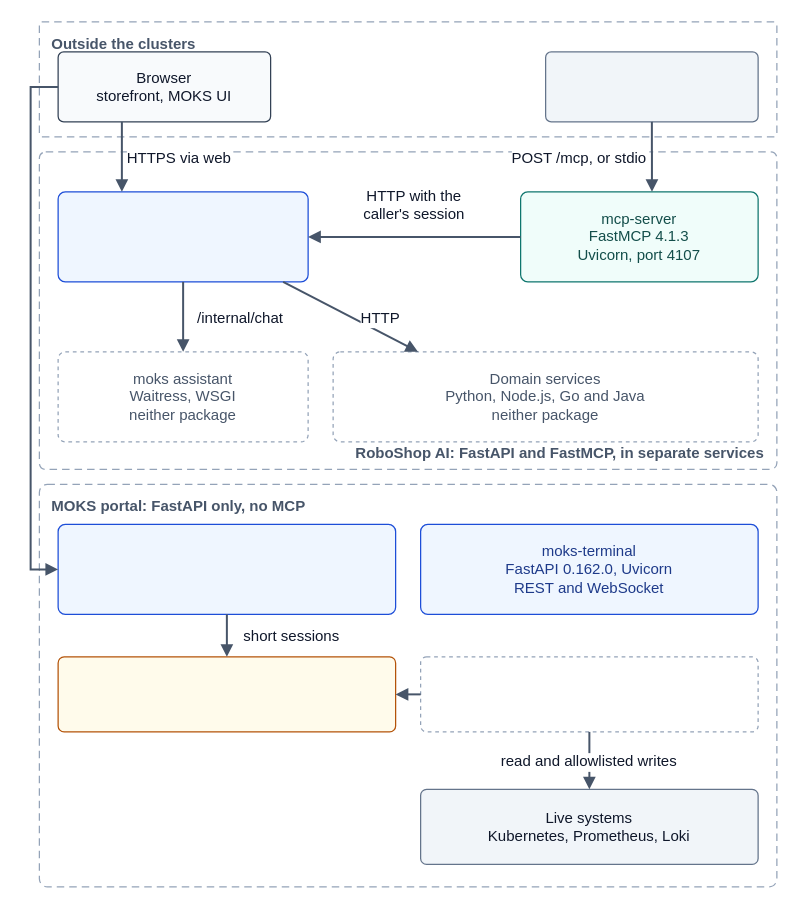
Image size: 800x909. Some labels were removed from this diagram. The centre of each missing label's shape, as x and y in pixels:
ai-gateway FastAPI 0.159.1 Uvicorn, port 3000: the point at 182,236
MCP host and client not in my repositories: the point at 651,86
moks worker claims jobs, typed tools, no HTTP: the point at 588,694
moks-api FastAPI 0.162.0, Uvicorn REST and Server-Sent Events: the point at 226,568
PostgreSQL state, events and the job queue: the point at 226,694
